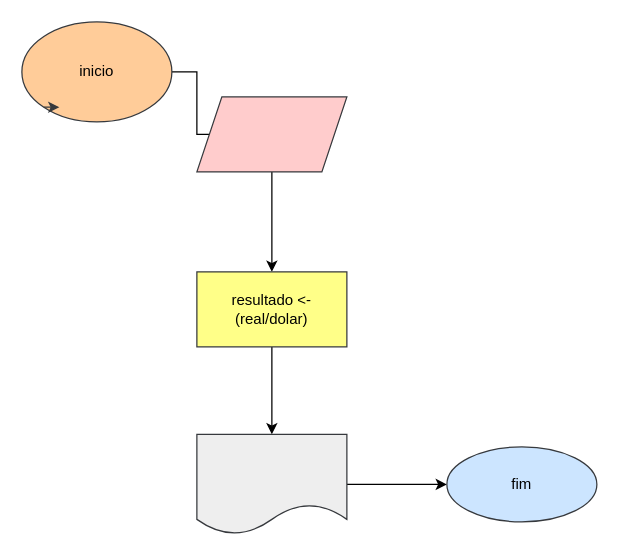
The diagram is 619 pixels wide and 556 high, and some of its shapes have lost their labels. Here are the shapes that lost their labels. From the top down, the box of each, then its label:
(196, 96, 347, 172): dolar,rel,resultado
(196, 433, 347, 534): resultado
